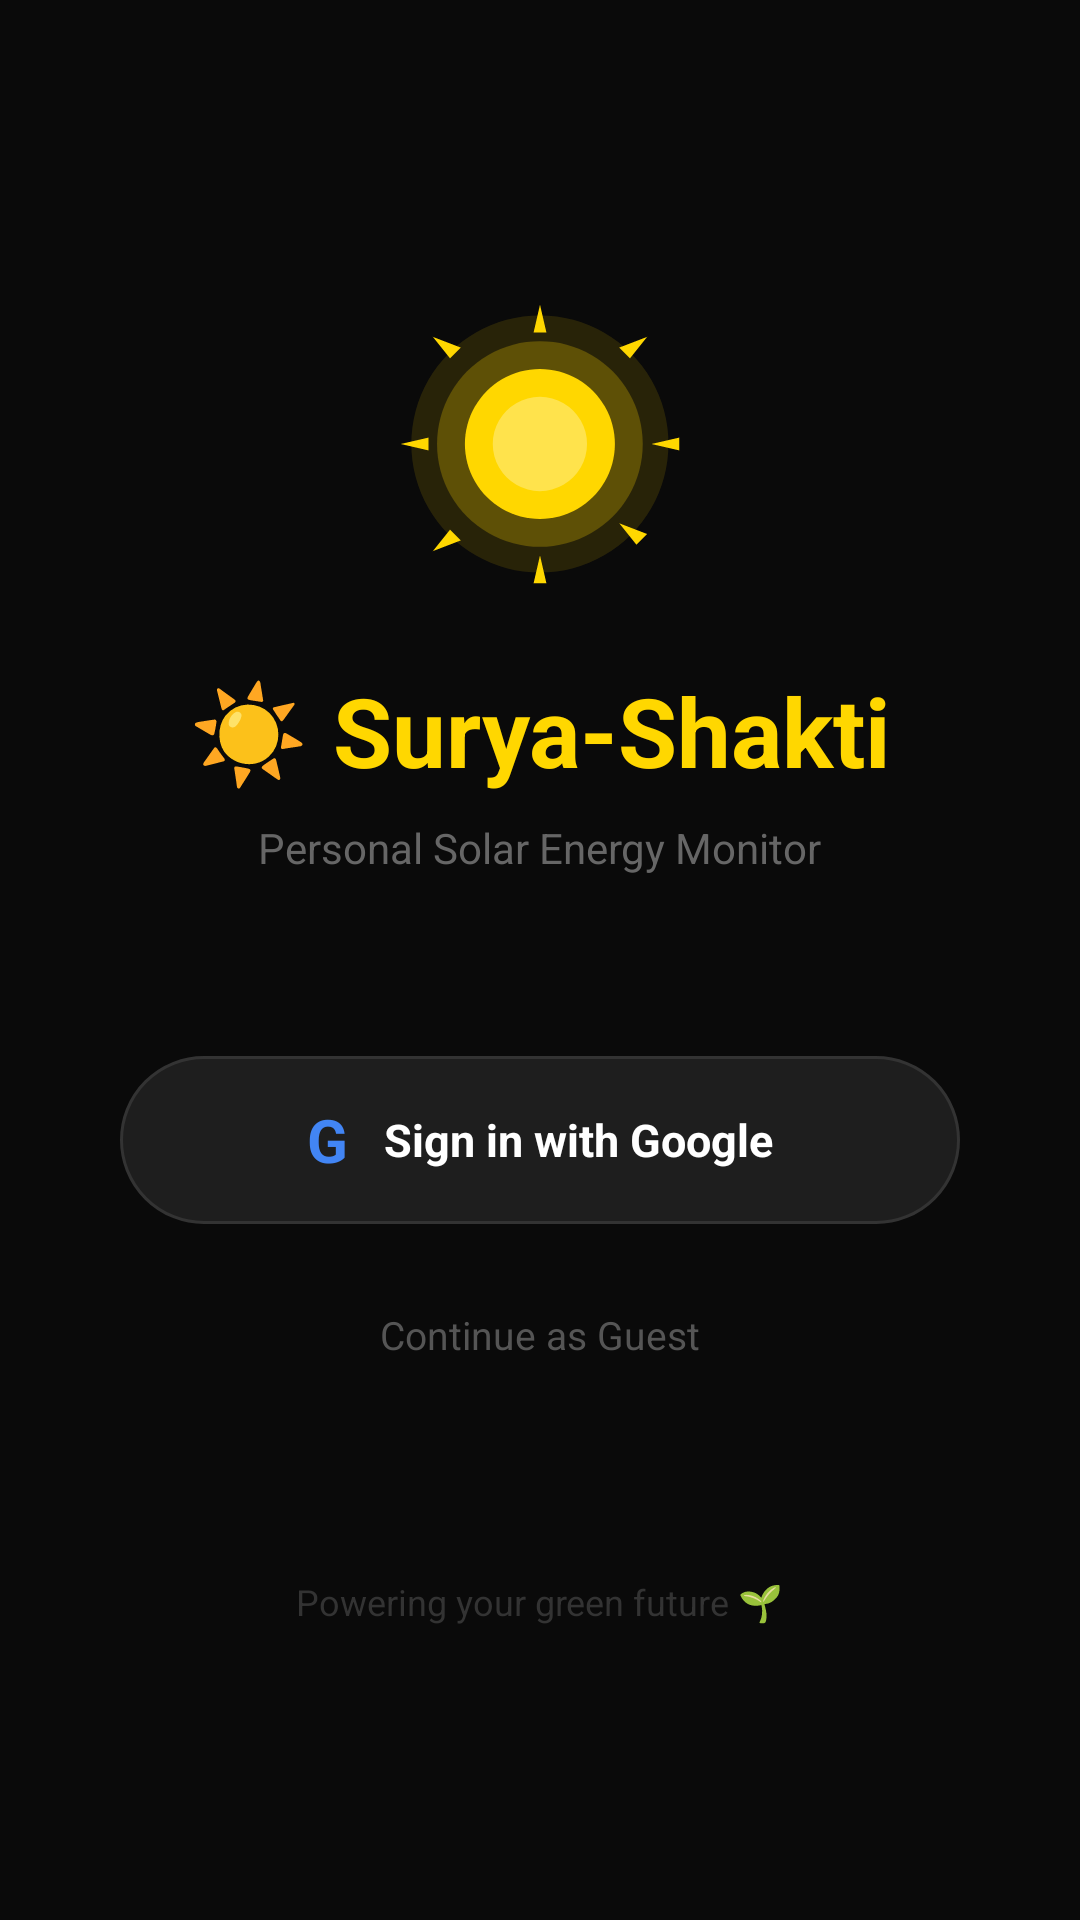

Icon click points for this 1080w x 1920h phone screenshot, format point (x, y):
sun: point (540, 444)
